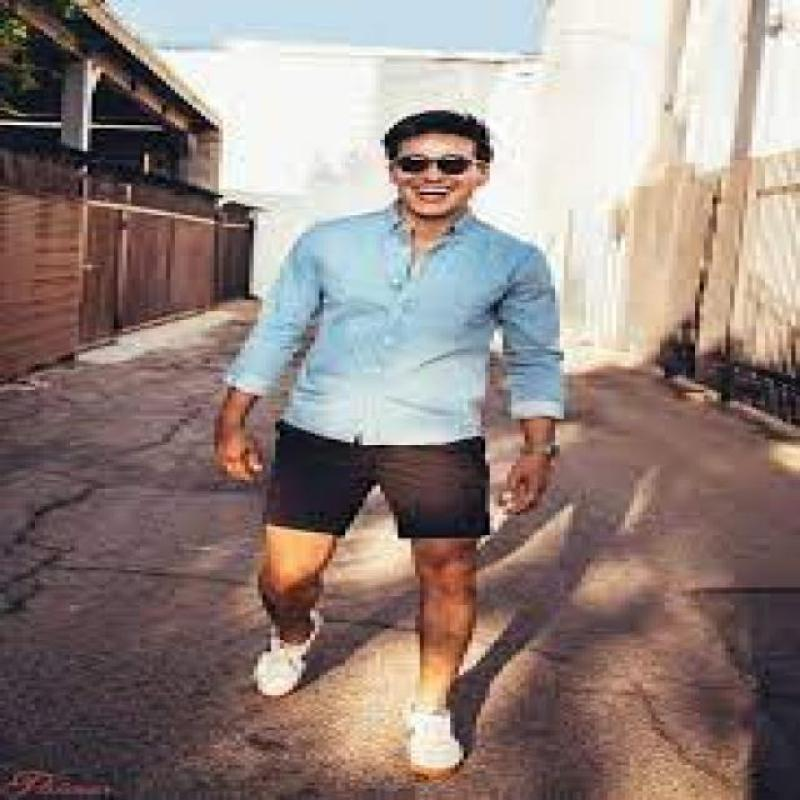Shorts: (261, 411, 498, 541)
long sleeve shirt: (224, 203, 573, 453)
